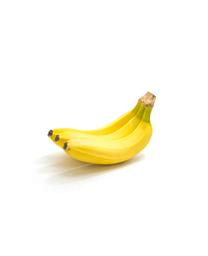banana: (47, 91, 160, 167)
